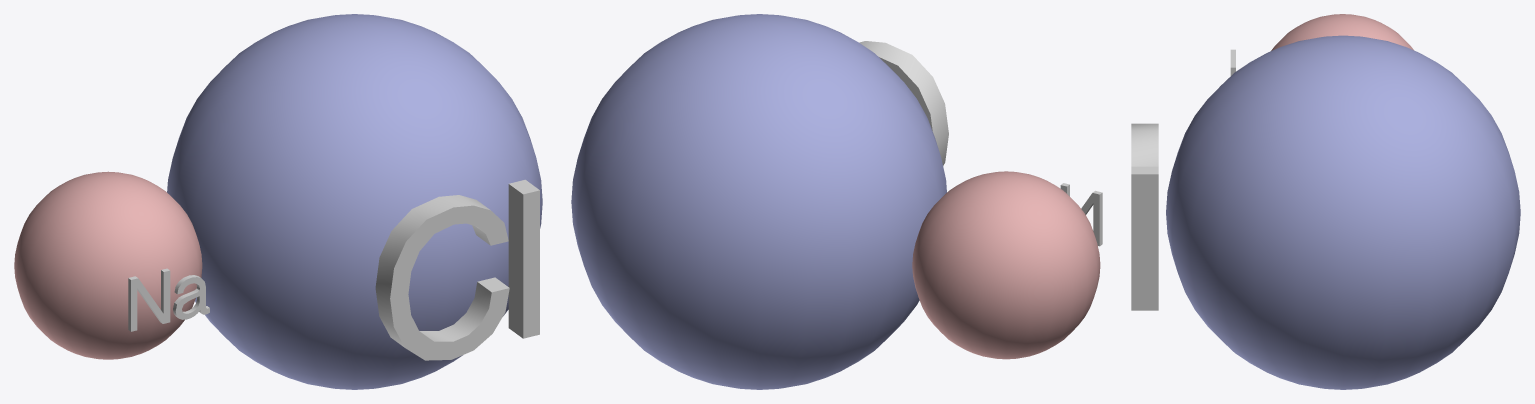
Rendered from nacl.glb.
3 renders of one model, left to right at view 1: azimuth 30°, elevation 25°; view 2: azimuth 150°, elevation 25°; view 3: azimuth 270°, elevation 25°, orthographic. The views are drawn at different scales.
Parts seen in each view (by area): view 1: Sphere1, Sphere, Text, NaCl; view 2: Sphere1, Sphere, Text, NaCl; view 3: Sphere1, Text, Sphere.
Boxes of the visible parts, x1,y1,x2,y2 form: Sphere1: (167, 14, 542, 389); Sphere: (14, 171, 202, 359); Text: (375, 179, 539, 360); NaCl: (128, 268, 209, 331); Sphere1: (571, 14, 946, 389); Sphere: (912, 171, 1100, 359); Text: (859, 41, 948, 165); NaCl: (1060, 183, 1102, 246); Sphere1: (1166, 35, 1520, 389); Text: (1131, 123, 1158, 310); Sphere: (1271, 14, 1413, 50).
Size of the model in its own units: 1.51 by 1 by 1.1.
